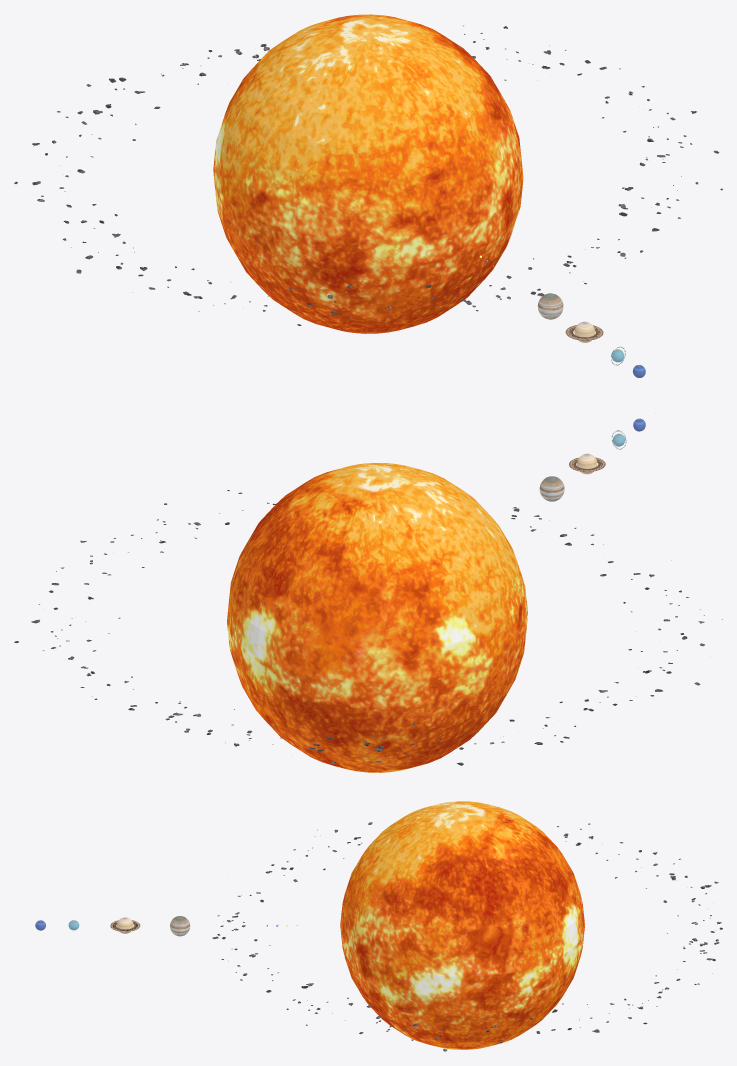
Rendered from solar_system.glb.
3 renders of one model, top to bottom at view 1: azimuth 30°, elevation 25°; view 2: azimuth 150°, elevation 25°; view 3: azimuth 270°, elevation 25°, orthographic. The views are drawn at different scales.
Parts seen in each view (by area): view 1: Sun_7, asteroidi3_Roundcube.003_19; view 2: Sun_7, asteroidi3_Roundcube.003_19; view 3: Sun_7, asteroidi3_Roundcube.003_19.
Part boxes in pixels (x1,y1,x2,y2): Sun_7: (213, 14, 523, 333); asteroidi3_Roundcube.003_19: (14, 25, 722, 334); Sun_7: (227, 463, 527, 772); asteroidi3_Roundcube.003_19: (14, 490, 722, 765); Sun_7: (340, 801, 584, 1049); asteroidi3_Roundcube.003_19: (212, 822, 722, 1051).
Size of the model in its own units: 1593 by 703 by 1990.
15 materials, 15 textured.
